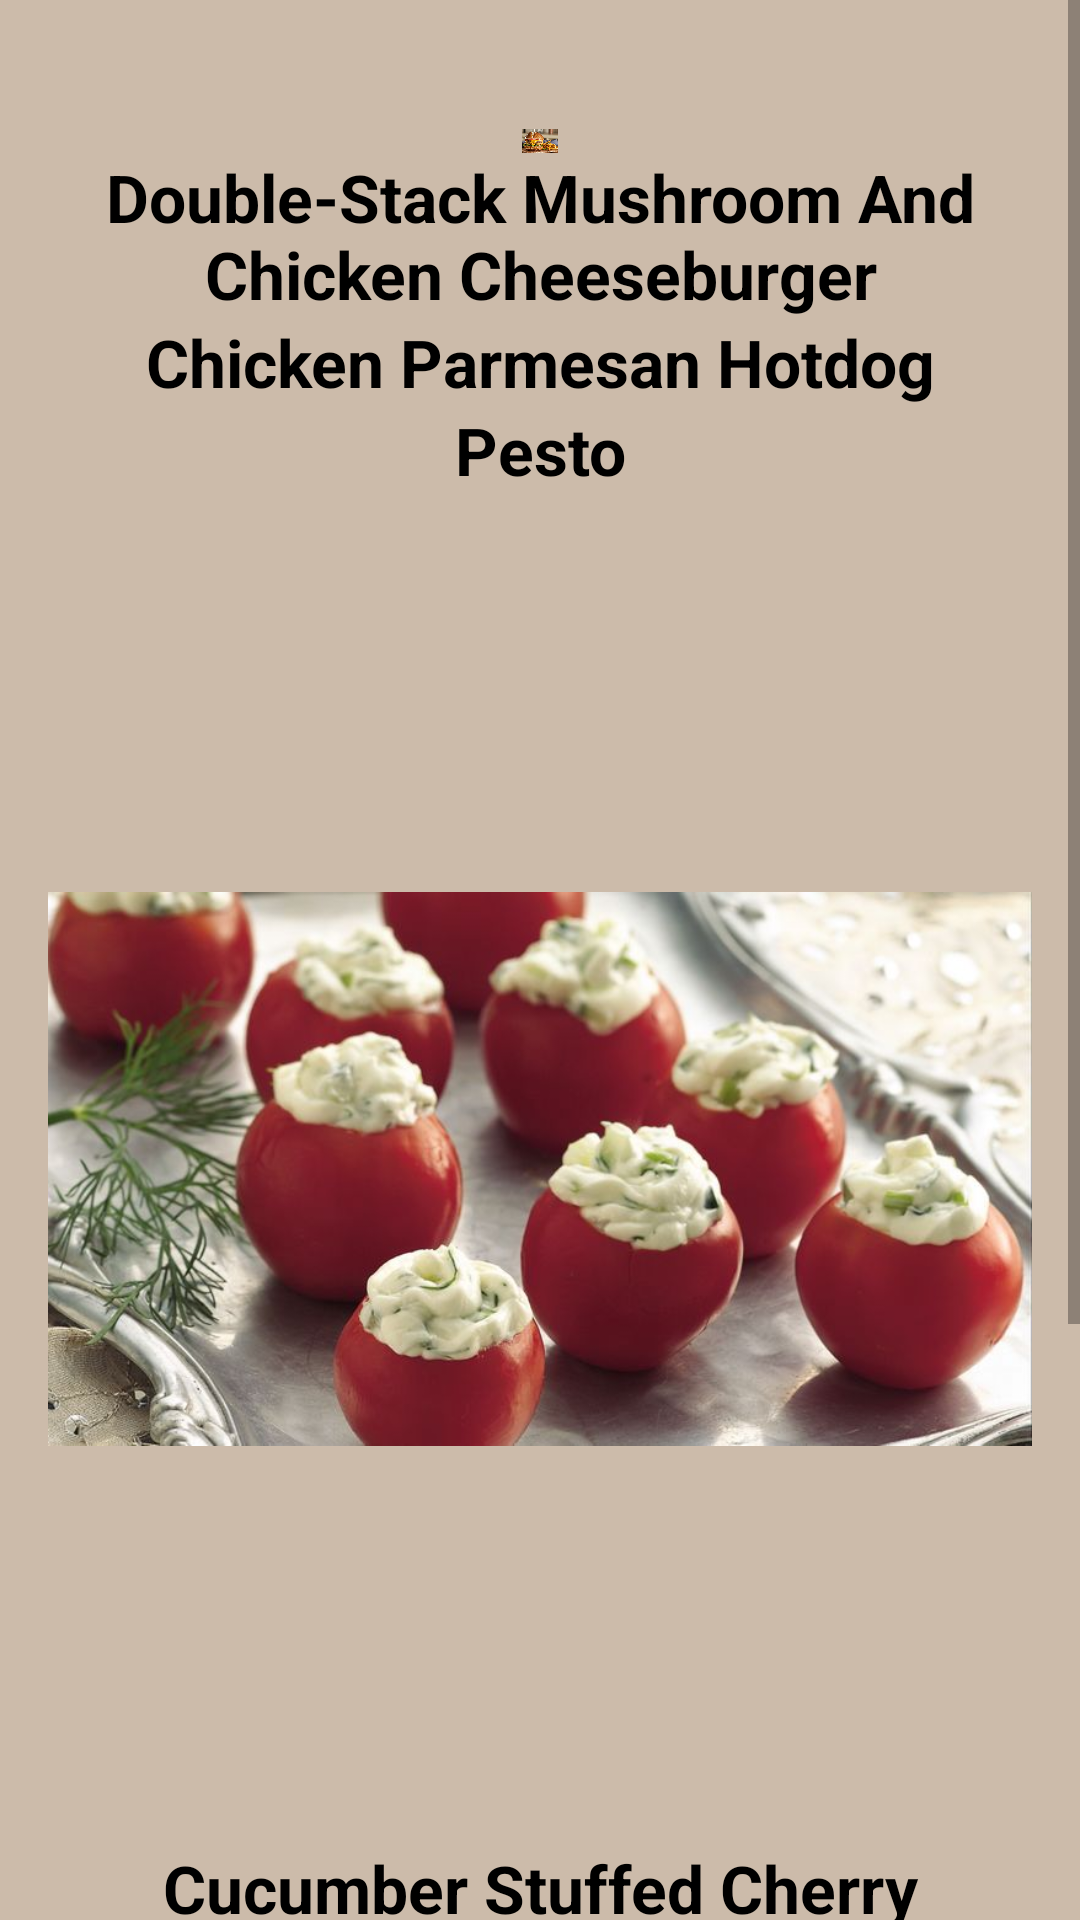

Point at icon controls on the screen. Image size 1080 x 1920, points as point (x, y).
burgerpic: point (540, 141)
